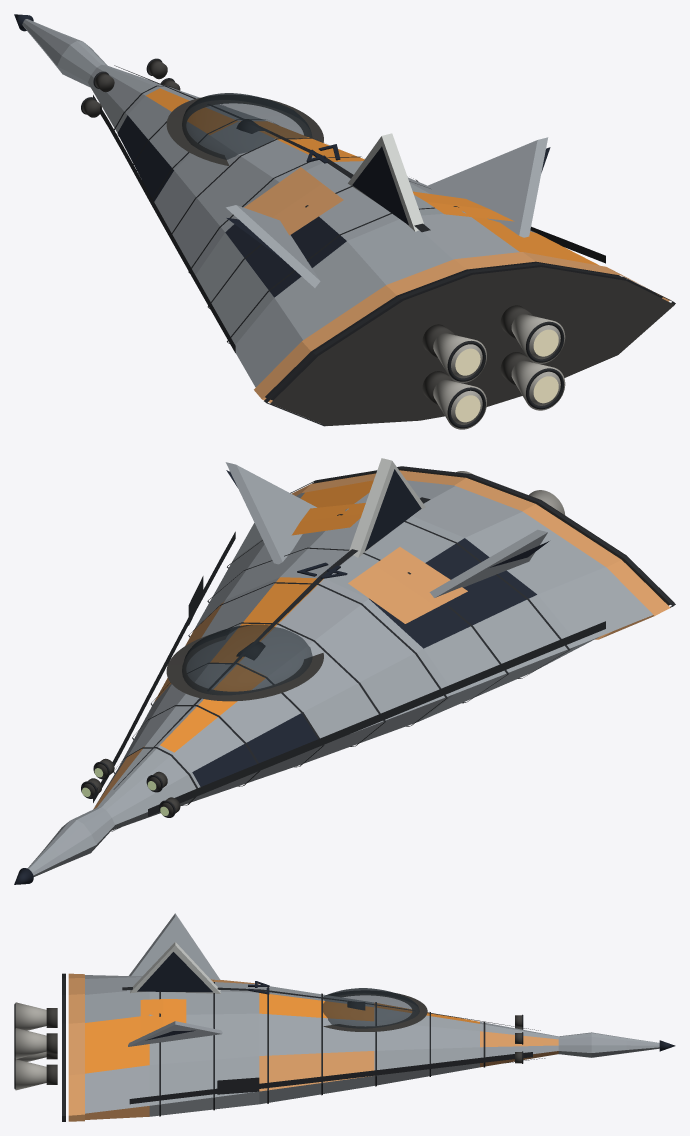
File: Ship_PyramidLifter_950535.glb
3 views of the same model, one above another, from view 1: azimuth 30°, elevation 25°; view 2: azimuth 150°, elevation 25°; view 3: azimuth 270°, elevation 25° (orthographic). The views are drawn at different scales.
Visible parts, largest first — view 1: Fuselage_MainPyramidalLiftingBody, EngineDeck_AftFacetedDarkMountPlate, CanopyGlass_LowInsetSmokedDome, TailFin_Right_ShortCantedStabilizer, EngineDeck_AftOuterArmorCollar, PaintSquadronBlock_TopLeftPrimaryPlate, CanopyFrame_LowInsetArmoredOvalRim, Nose_FacetedRamNeedle, EngineEmitter, TailFin_Left_ShortCantedStabilizer, TailFin_Center_LowDorsalKeel, TailFin_Center_TrimInsetPatch_B (+8 smaller); view 2: Fuselage_MainPyramidalLiftingBody, CanopyGlass_LowInsetSmokedDome, EngineDeck_AftOuterArmorCollar, PaintSquadronBlock_TopLeftPrimaryPlate, TailFin_Right_ShortCantedStabilizer, SideChinePanel_Left_LongDarkArmorJoint, CanopyFrame_LowInsetArmoredOvalRim, Nose_FacetedRamNeedle, TailFin_Left_ShortCantedStabilizer, TailFin_Center_LowDorsalKeel, TailFin_Center_TrimInsetPatch_B, PaintSquadronBlock_TopRightSecondaryPlate (+5 smaller); view 3: Fuselage_MainPyramidalLiftingBody, CanopyGlass_LowInsetSmokedDome, EngineDeck_AftOuterArmorCollar, SideChinePanel_Right_LongDarkArmorJoint, Nose_FacetedRamNeedle, TailFin_Left_ShortCantedStabilizer, TailFin_Center_TrimInsetPatch_A, PaintSquadronBlock_TopRightSecondaryPlate, CanopyFrame_LowInsetArmoredOvalRim, TailFin_Right_ShortCantedStabilizer, TailFin_Center_LowDorsalKeel, EngineBell_LowerRight_BurnishedNozzle (+5 smaller).
Boxes of the visible parts, left/top/right/bottom form: Fuselage_MainPyramidalLiftingBody: left=88, top=64, right=662, bottom=400; EngineDeck_AftFacetedDarkMountPlate: left=270, top=267, right=674, bottom=425; CanopyGlass_LowInsetSmokedDome: left=182, top=93, right=312, bottom=159; TailFin_Right_ShortCantedStabilizer: left=423, top=137, right=548, bottom=237; EngineDeck_AftOuterArmorCollar: left=254, top=252, right=670, bottom=402; PaintSquadronBlock_TopLeftPrimaryPlate: left=244, top=167, right=343, bottom=235; CanopyFrame_LowInsetArmoredOvalRim: left=166, top=95, right=323, bottom=165; Nose_FacetedRamNeedle: left=22, top=19, right=107, bottom=87; EngineEmitter: left=455, top=329, right=558, bottom=422; TailFin_Left_ShortCantedStabilizer: left=226, top=205, right=320, bottom=287; TailFin_Center_LowDorsalKeel: left=348, top=133, right=423, bottom=231; TailFin_Center_TrimInsetPatch_B: left=352, top=146, right=408, bottom=225; Fuselage_MainPyramidalLiftingBody: left=93, top=480, right=652, bottom=830; CanopyGlass_LowInsetSmokedDome: left=182, top=624, right=312, bottom=695; EngineDeck_AftOuterArmorCollar: left=291, top=470, right=670, bottom=639; PaintSquadronBlock_TopLeftPrimaryPlate: left=348, top=547, right=467, bottom=623; TailFin_Right_ShortCantedStabilizer: left=225, top=462, right=316, bottom=564; SideChinePanel_Left_LongDarkArmorJoint: left=148, top=621, right=605, bottom=816; CanopyFrame_LowInsetArmoredOvalRim: left=166, top=630, right=323, bottom=701; Nose_FacetedRamNeedle: left=27, top=807, right=114, bottom=876; TailFin_Left_ShortCantedStabilizer: left=429, top=529, right=547, bottom=597; TailFin_Center_LowDorsalKeel: left=349, top=458, right=425, bottom=557; TailFin_Center_TrimInsetPatch_B: left=365, top=469, right=421, bottom=550; PaintSquadronBlock_TopRightSecondaryPlate: left=291, top=503, right=365, bottom=535; Fuselage_MainPyramidalLiftingBody: left=85, top=975, right=558, bottom=1119; CanopyGlass_LowInsetSmokedDome: left=323, top=988, right=419, bottom=1028; EngineDeck_AftOuterArmorCollar: left=68, top=973, right=84, bottom=1121; SideChinePanel_Right_LongDarkArmorJoint: left=129, top=1052, right=532, bottom=1104; Nose_FacetedRamNeedle: left=558, top=1032, right=659, bottom=1057; TailFin_Left_ShortCantedStabilizer: left=129, top=913, right=220, bottom=980; TailFin_Center_TrimInsetPatch_A: left=137, top=952, right=212, bottom=992; PaintSquadronBlock_TopRightSecondaryPlate: left=140, top=999, right=186, bottom=1036; CanopyFrame_LowInsetArmoredOvalRim: left=323, top=991, right=427, bottom=1031; TailFin_Right_ShortCantedStabilizer: left=128, top=1021, right=222, bottom=1046; TailFin_Center_LowDorsalKeel: left=130, top=942, right=220, bottom=993; EngineBell_LowerRight_BurnishedNozzle: left=15, top=1059, right=46, bottom=1090.
Bounding box in the file's own units: 3.38 × 1.77 × 7.06.
